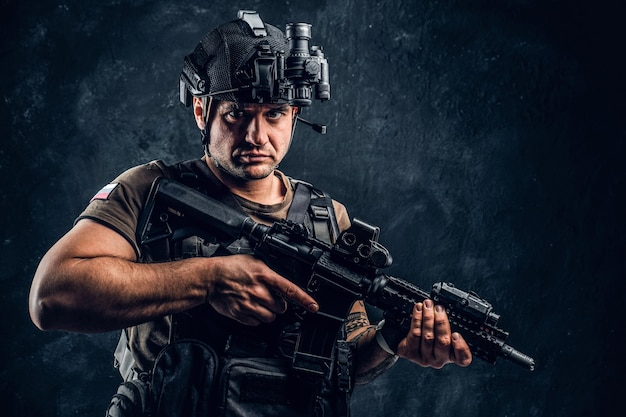gun: (135, 171, 537, 375)
